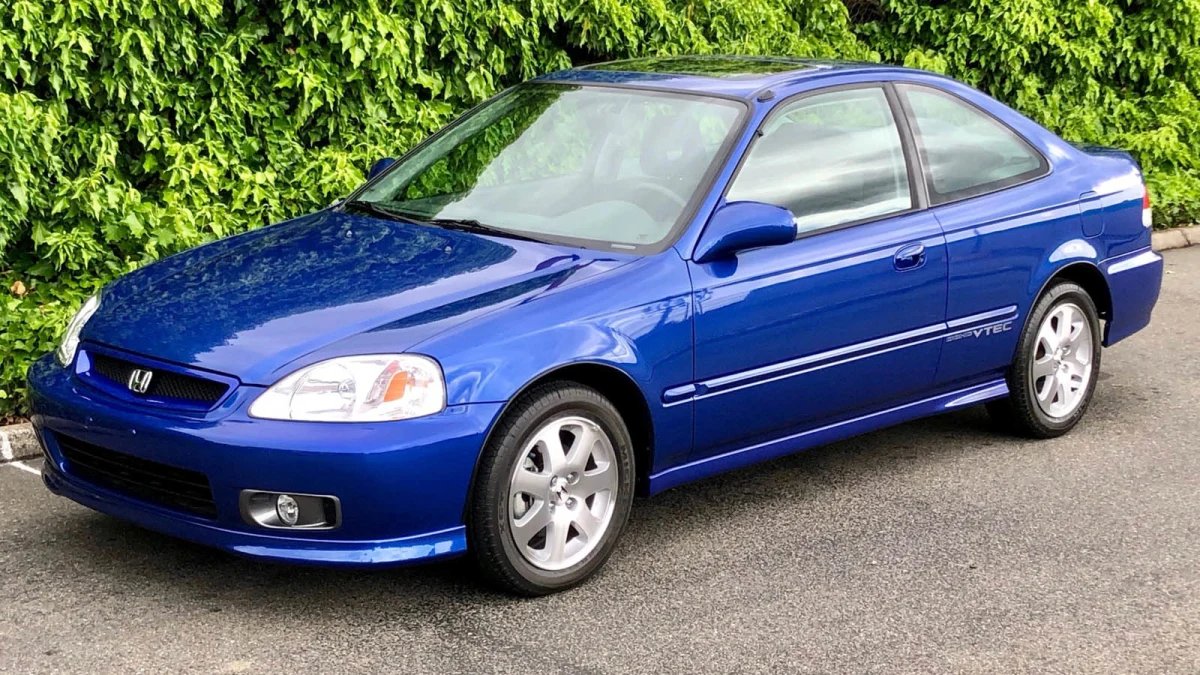car: (21, 43, 1169, 601)
